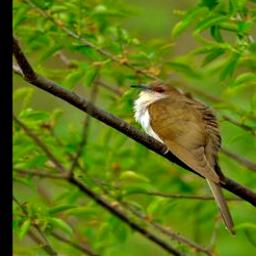Cuckoo: (129, 80, 239, 237)
